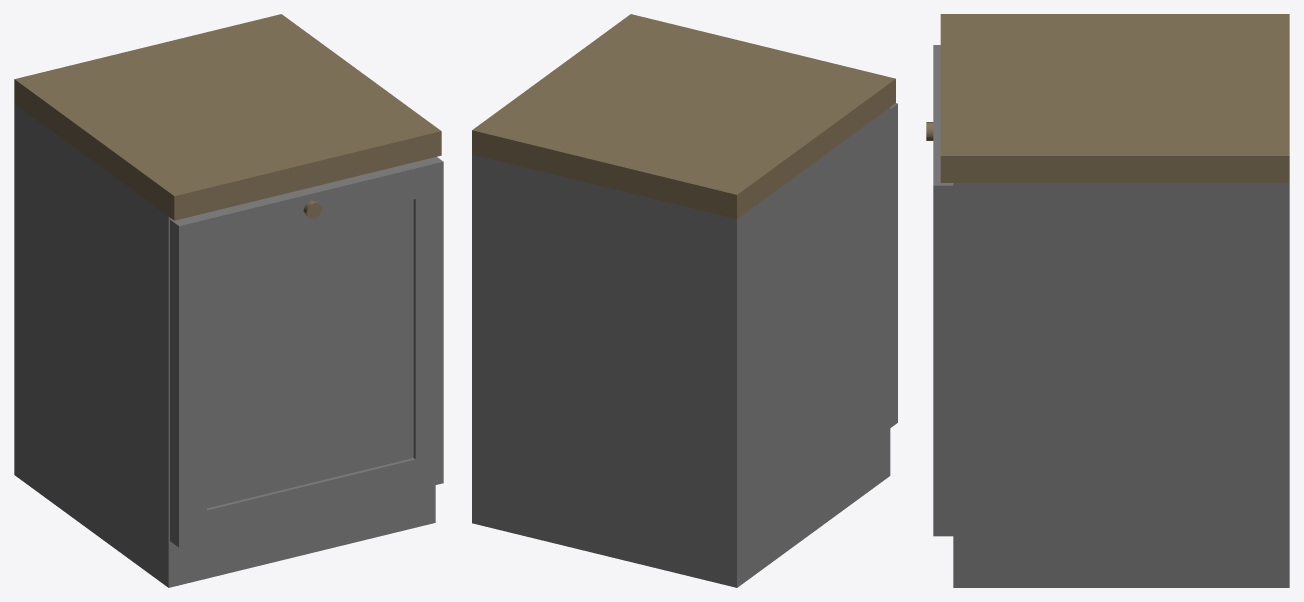
Rendered from Tumba.fbx.
The picture shows the model from 3 angles, left to right: view 1: azimuth 30°, elevation 25°; view 2: azimuth 150°, elevation 25°; view 3: azimuth 270°, elevation 25°; orthographic projection. The views are drawn at different scales.
Parts seen in each view (by area): view 1: Tumba; view 2: Tumba; view 3: Tumba.
Part boxes in pixels (<box>): Tumba: <box>14,14,443,587</box>; Tumba: <box>472,14,897,587</box>; Tumba: <box>926,14,1289,587</box>.
Bounding box in the file's own units: 60 × 85 × 64.77.
